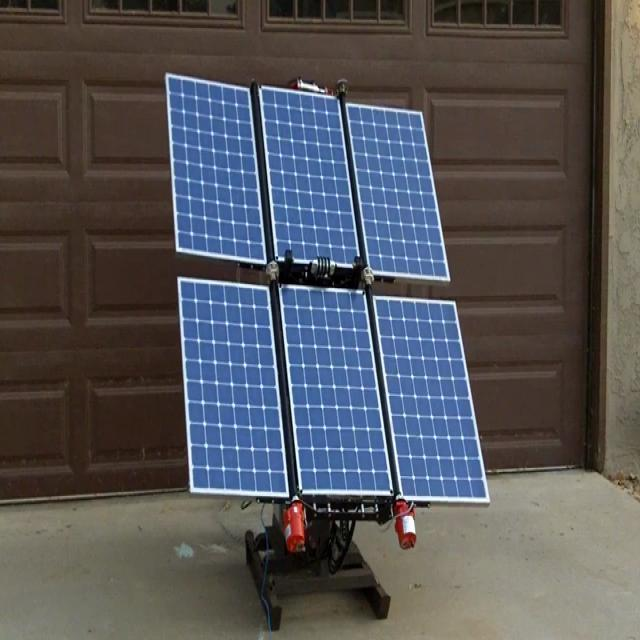Normal Solar Panel: (179, 279, 289, 499), (280, 287, 392, 496), (377, 297, 490, 504), (166, 74, 265, 264), (349, 103, 450, 281), (262, 87, 359, 267)
